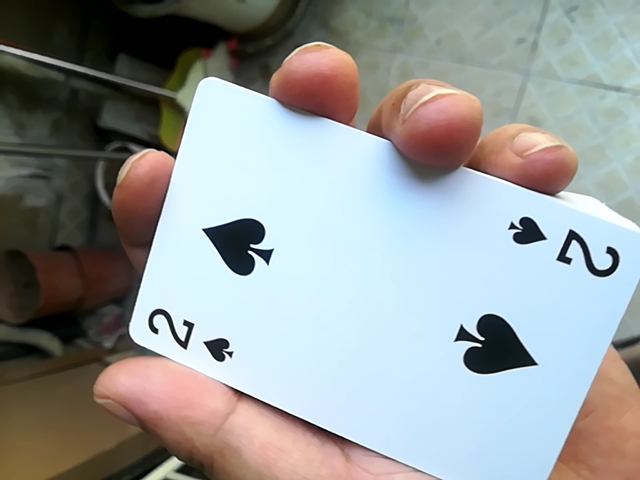ht 2: (111, 85, 638, 480)
